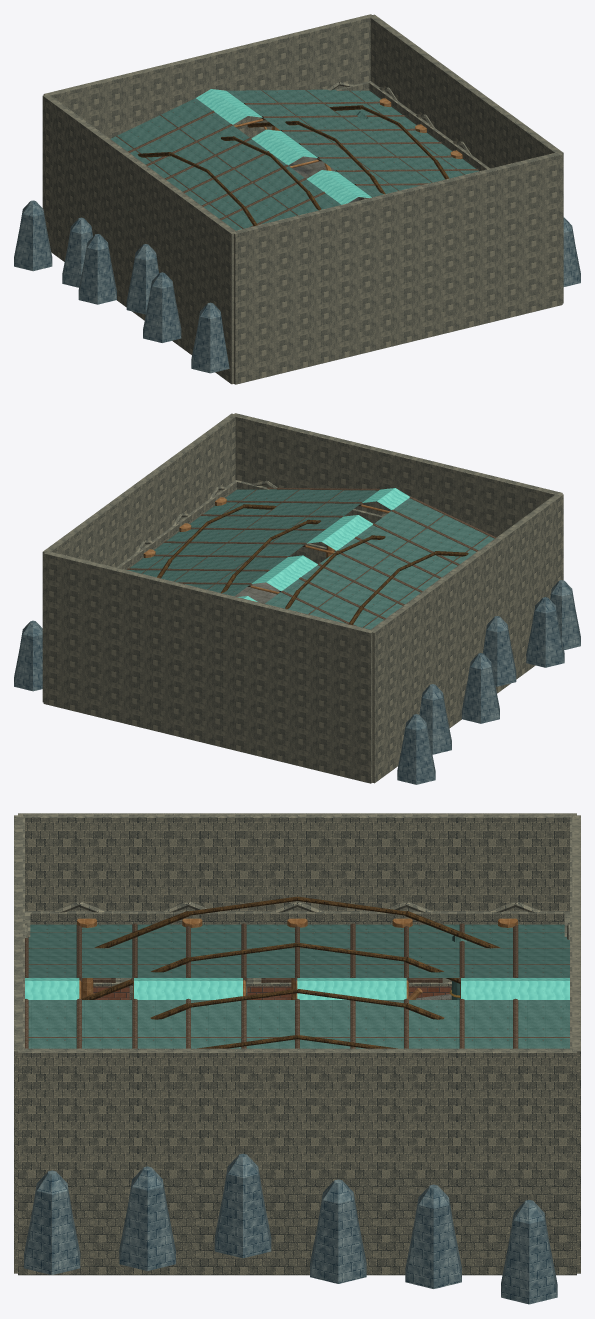
Rendered from DrumHouse-eb36d1e6b304.glb.
3 renders of one model, top to bottom at view 1: azimuth 30°, elevation 25°; view 2: azimuth 150°, elevation 25°; view 3: azimuth 270°, elevation 25°, orthographic. The views are drawn at different scales.
Visible parts, largest first — view 1: C_Solids, Rim, Horizon, Terrain; view 2: C_Solids, Rim, Horizon, Terrain; view 3: C_Solids, Rim, Horizon.
Boxes of the visible parts, x1,y1,x2,y2 form: C_Solids: (42, 14, 563, 384); Rim: (111, 81, 489, 230); Horizon: (14, 200, 580, 373); Terrain: (288, 156, 359, 202); C_Solids: (42, 413, 563, 783); Rim: (116, 480, 496, 629); Horizon: (14, 580, 580, 784); Terrain: (234, 582, 279, 603); C_Solids: (14, 813, 580, 1275); Rim: (25, 896, 569, 1048); Horizon: (24, 1153, 557, 1304).
Bounding box in the file's own units: 52.8 × 18 × 41.6.
Materials: 16 (16 with a texture image).
